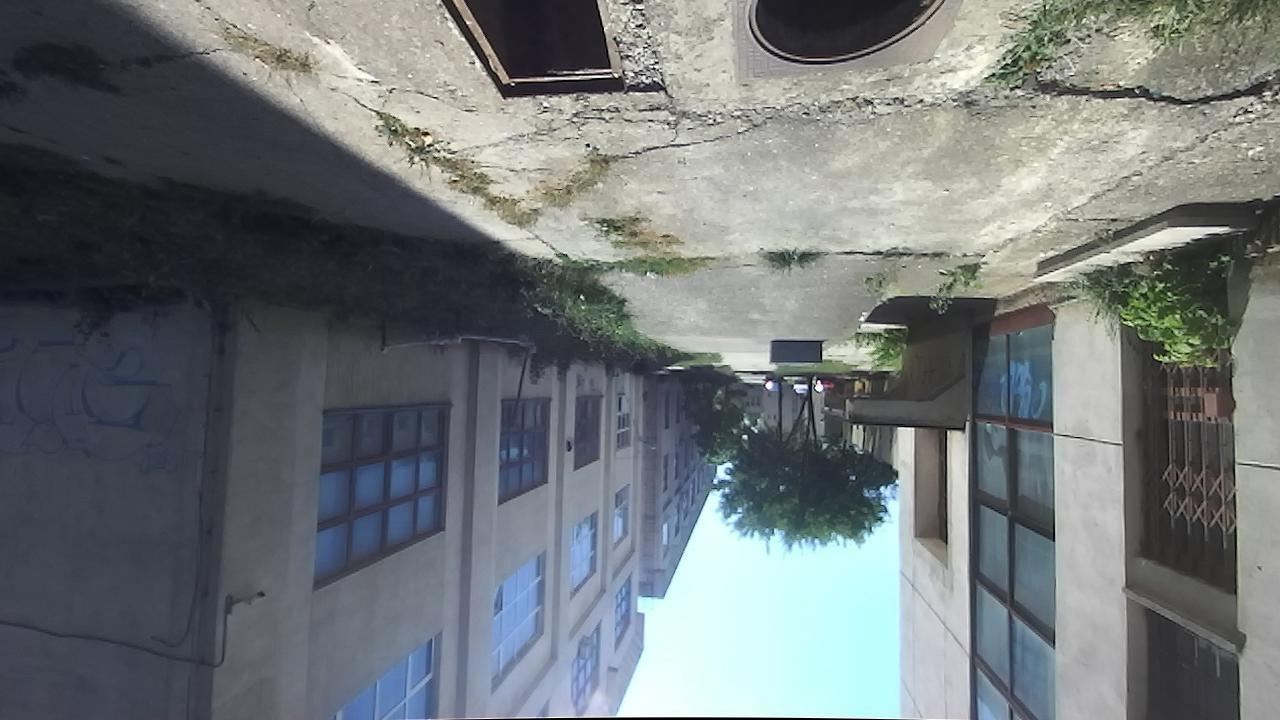drain: (436, 0, 629, 107), (736, 0, 949, 71)
